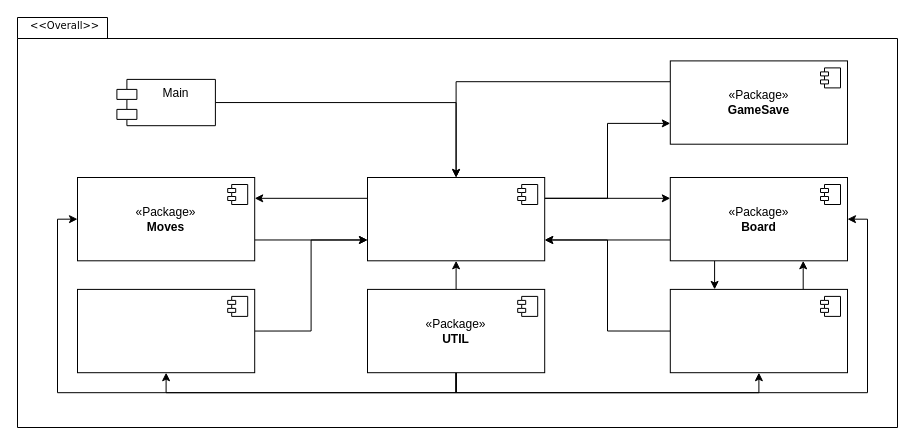
The diagram is 915 pixels wide and 445 high, and some of its shapes have lost their labels. The centre of each missing label's shape, as x and y in pixels:
"«Package» Game" belongs at (455,218).
"«Package» GUI" belongs at (758,330).
"«Package» Pieces" belongs at (165,330).
